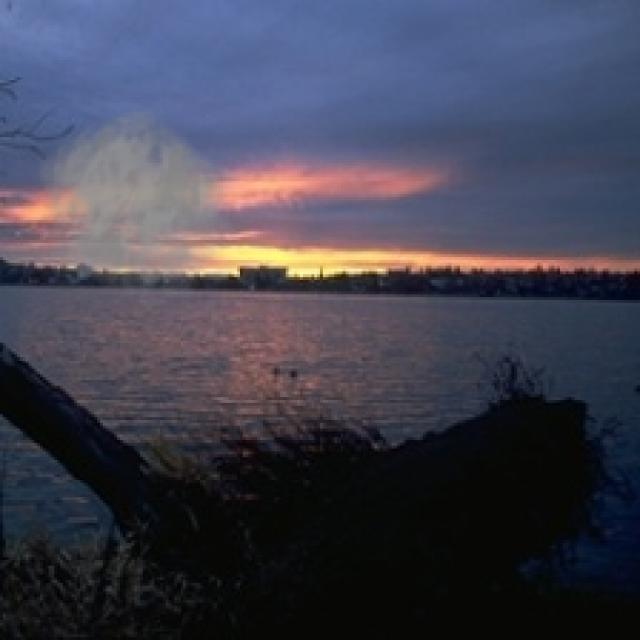Smoke: (37, 108, 243, 312)
